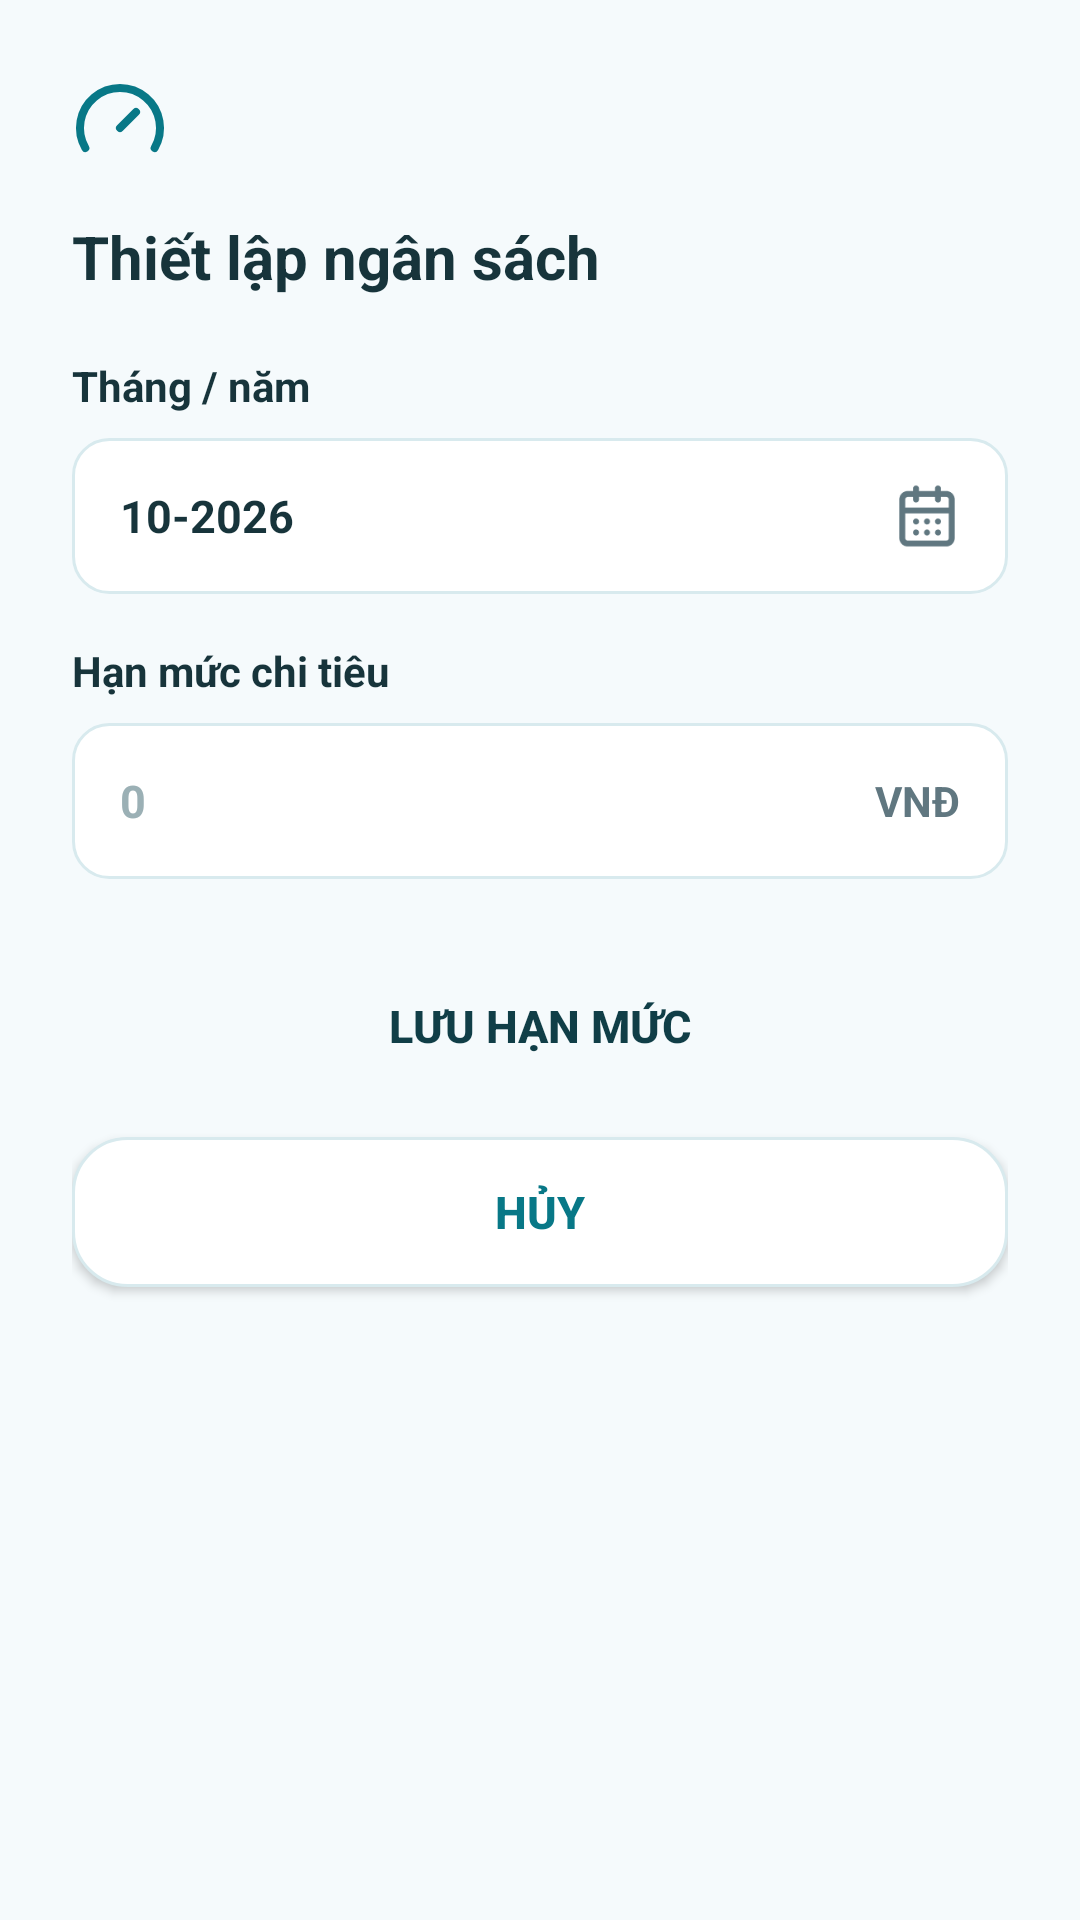

Screen size 1080 x 1920. Icon name, then its center in pixels as point (x, y):
Calendar: point (927, 516)
Gauge Icon: point (120, 118)
